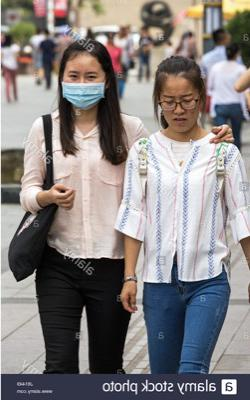with_mask: (60, 68, 106, 110)
without_mask: (159, 90, 202, 133)
